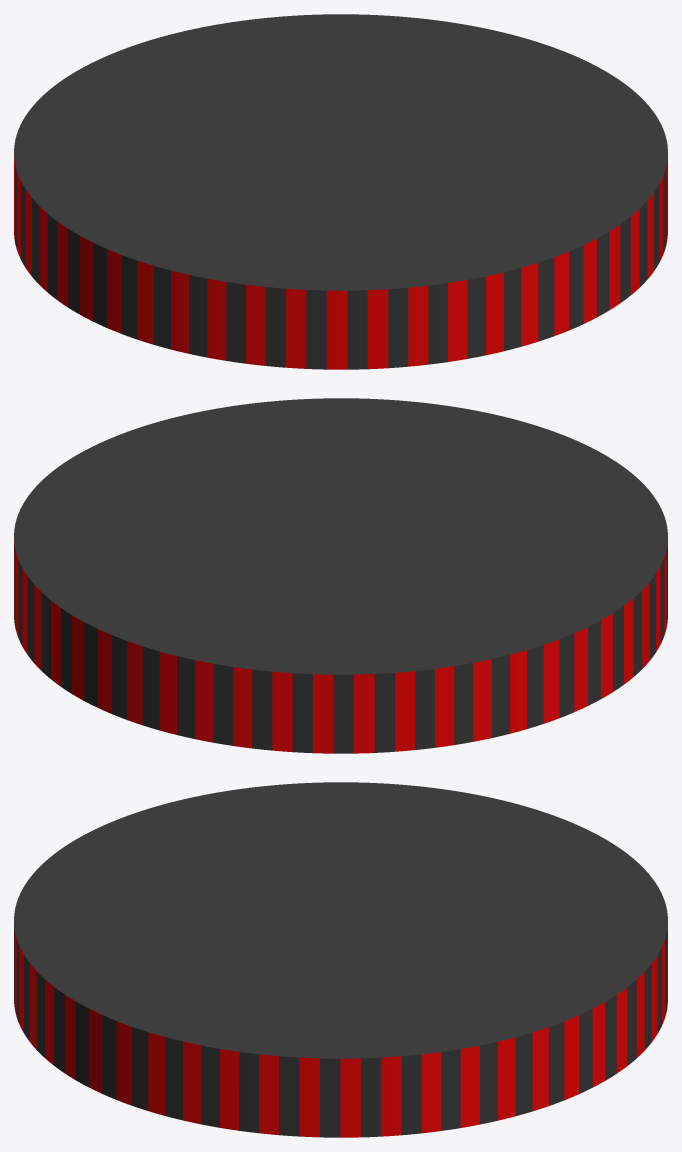
File: twowheel_left_hd.dae
The picture shows the model from 3 angles, top to bottom: view 1: azimuth 30°, elevation 25°; view 2: azimuth 150°, elevation 25°; view 3: azimuth 270°, elevation 25°; orthographic projection.
Visible parts, largest first — view 1: SketchUp (×21); view 2: SketchUp (×21); view 3: SketchUp (×22).
Part boxes in pixels (bbox=[...]): SketchUp (×21): bbox=[14, 14, 667, 369]; SketchUp (×21): bbox=[14, 398, 667, 753]; SketchUp (×22): bbox=[14, 782, 667, 1137].
Size of the model in its own units: 1.18 by 1.18 by 0.1575.
